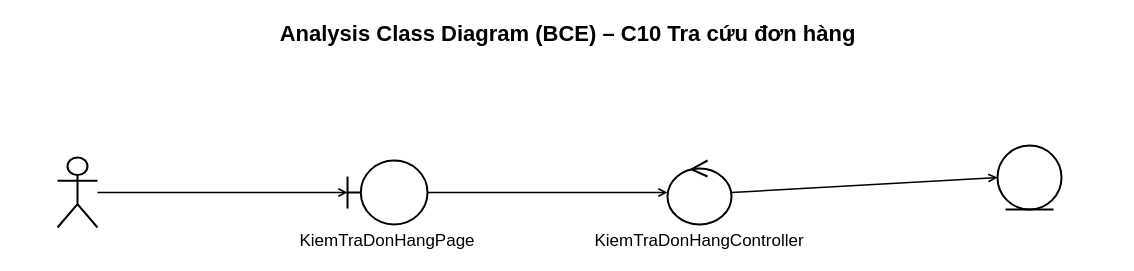
This 1134x271 diagram has some shape labels left out. Each missing label, with the centre of its shape:
"DonHang" goes at point (1029, 177).
"Khách hàng" goes at point (77, 192).
